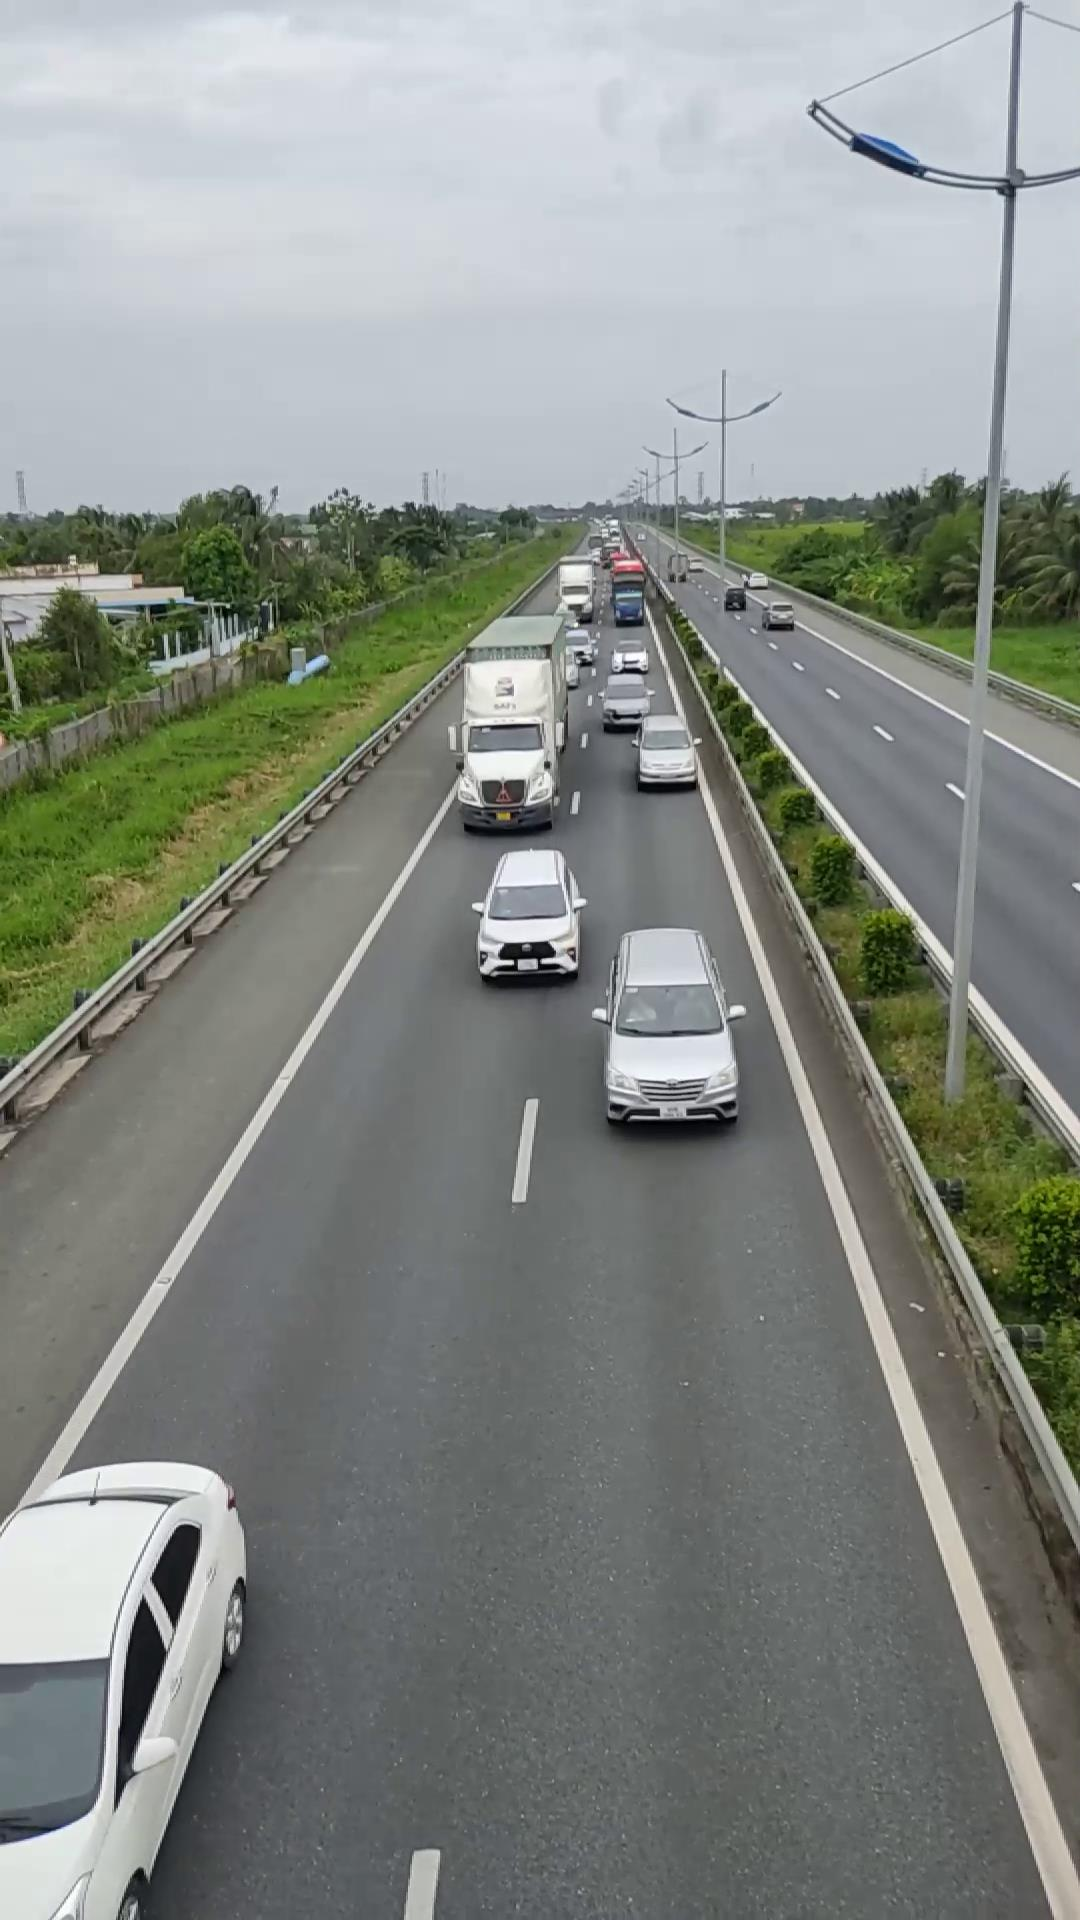car: (0, 1457, 251, 1919), (596, 926, 742, 1127), (471, 847, 587, 984), (633, 713, 702, 789)
container: (451, 611, 572, 831)
